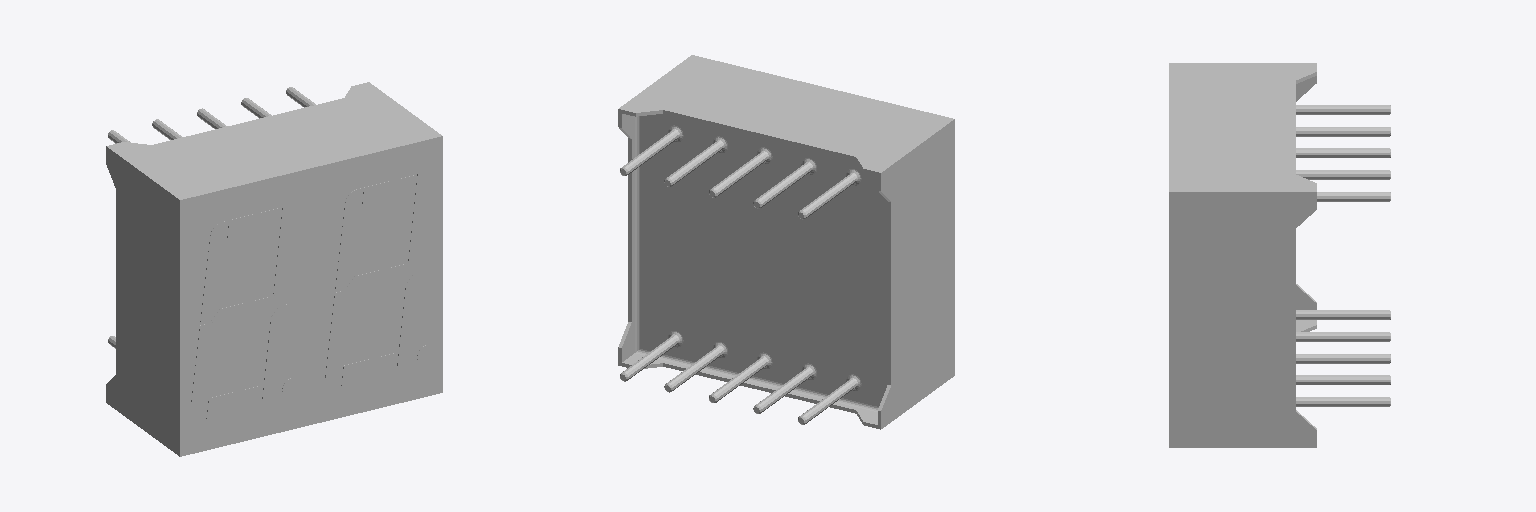
Rendered from 7 Segment Double Digit LED Display.obj.
3 renders of one model, left to right at view 1: azimuth 30°, elevation 25°; view 2: azimuth 150°, elevation 25°; view 3: azimuth 270°, elevation 25°, orthographic.
Parts seen in each view (by area): view 1: Solid1; view 2: Solid1; view 3: Solid1.
Part boxes in pixels (left/top/right/bottom): Solid1: left=106, top=82, right=442, bottom=456; Solid1: left=618, top=55, right=954, bottom=429; Solid1: left=1169, top=63, right=1390, bottom=447.
Bounding box in the file's own units: 15 × 14.01 × 11.02.